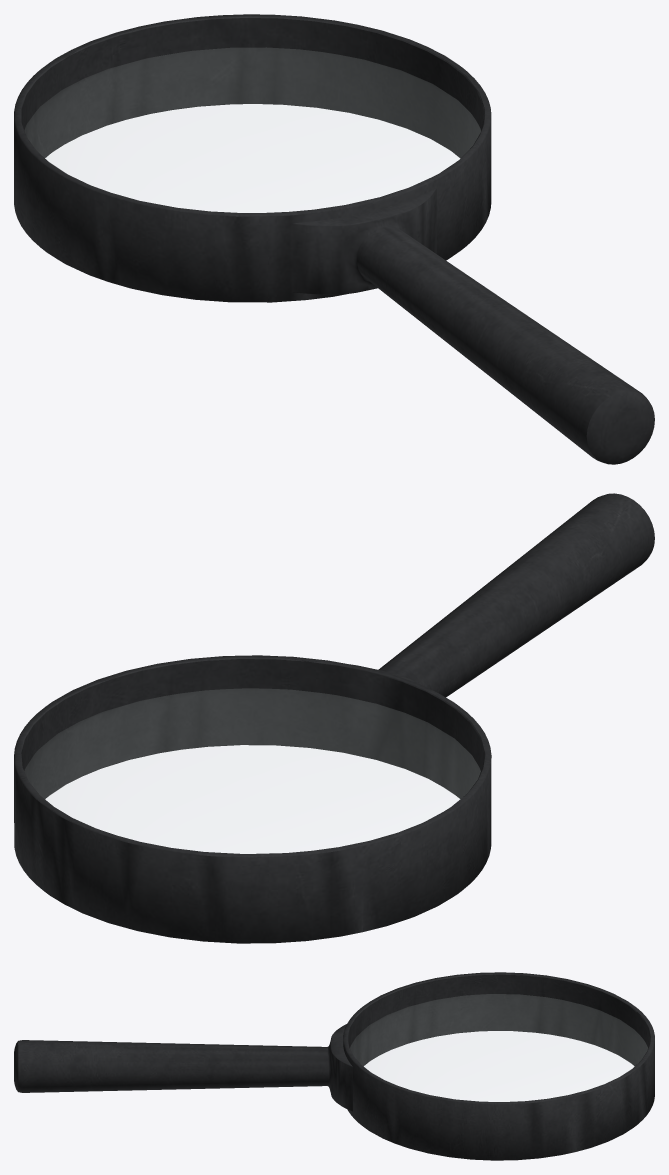
Rendered from magnifying_glass_01.glb.
3 views of the same model, one above another, from view 1: azimuth 30°, elevation 25°; view 2: azimuth 150°, elevation 25°; view 3: azimuth 270°, elevation 25° (orthographic). The views are drawn at different scales.
Parts seen in each view (by area): view 1: magnifying_glass_01; view 2: magnifying_glass_01; view 3: magnifying_glass_01.
Boxes of the visible parts, left/top/right/bottom form: magnifying_glass_01: left=14, top=14, right=654, bottom=464; magnifying_glass_01: left=14, top=493, right=654, bottom=943; magnifying_glass_01: left=14, top=972, right=654, bottom=1160.
Size of the model in its own units: 0.1321 by 0.0267 by 0.2715.
Materials: 2 (1 with a texture image).
